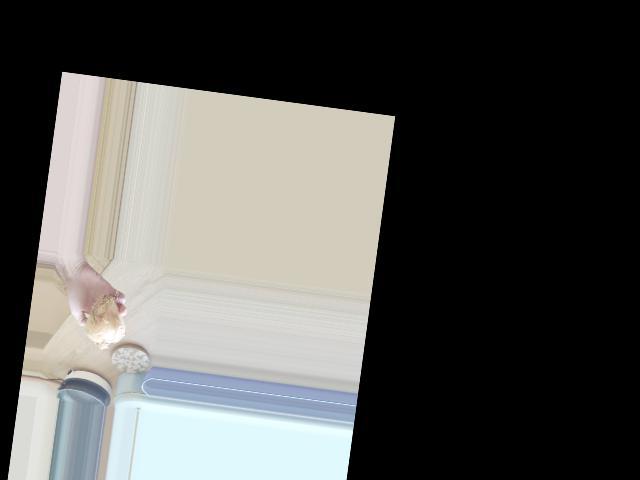onion: (82, 289, 131, 350)
